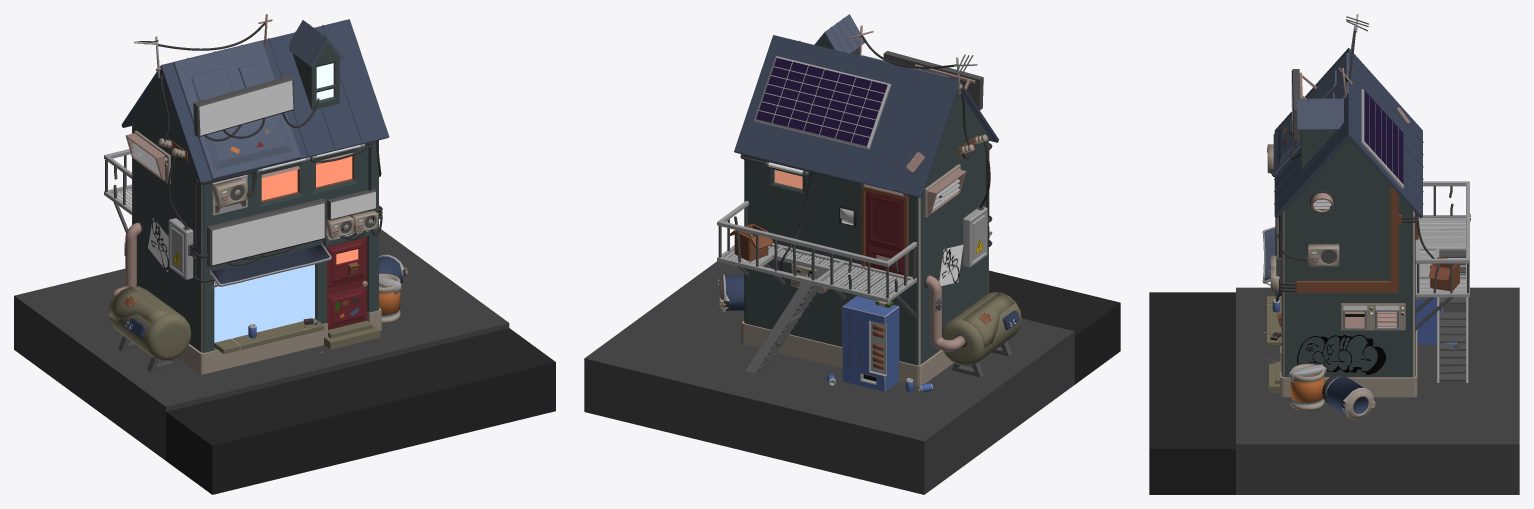
Rendered from House3.fbx.
3 renders of one model, left to right at view 1: azimuth 30°, elevation 25°; view 2: azimuth 150°, elevation 25°; view 3: azimuth 270°, elevation 25°, orthographic. The views are drawn at different scales.
Visible parts, largest first — view 1: Cube.009, NurbsPath.008; view 2: Cube.009, NurbsPath.008; view 3: Cube.009, NurbsPath.008.
Boxes of the visible parts, box(x1,y1,x2,y2) form: Cube.009: box(14, 14, 555, 494); NurbsPath.008: box(158, 22, 382, 265); Cube.009: box(584, 14, 1120, 494); NurbsPath.008: box(780, 35, 990, 279); Cube.009: box(1149, 14, 1519, 494); NurbsPath.008: box(1271, 30, 1434, 301).
Bounding box in the file's own units: 703 × 717 × 703.
